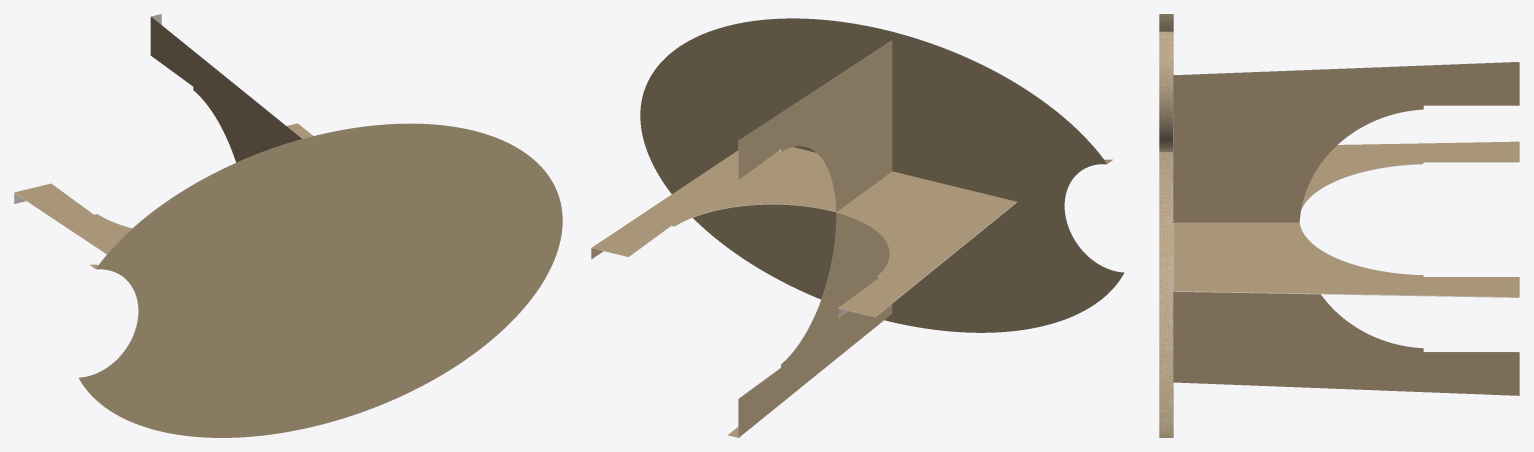
File: NODO_MESA_RATONA_ORGANICA_KIRI_V2.glb
3 views of the same model, side by side, from view 1: azimuth 30°, elevation 25°; view 2: azimuth 150°, elevation 25°; view 3: azimuth 270°, elevation 25° (orthographic). The views are drawn at different scales.
Visible parts, largest first — view 1: tapa_canto, pataB_canto, pataA_canto; view 2: tapa_canto, pataB_canto, pataA_canto, pataA_cuerpo, tapa_cuerpo; view 3: pataB_canto, pataA_canto, tapa_canto, tapa_cuerpo, pataA_cuerpo, pataB_cuerpo.
Boxes of the visible parts, bbox=[...] form: tapa_canto: bbox=[79, 123, 562, 437]; pataB_canto: bbox=[150, 14, 301, 162]; pataA_canto: bbox=[14, 123, 312, 253]; tapa_canto: bbox=[640, 18, 1123, 332]; pataB_canto: bbox=[728, 38, 892, 437]; pataA_canto: bbox=[591, 147, 1017, 319]; pataA_cuerpo: bbox=[592, 202, 1016, 318]; tapa_cuerpo: bbox=[699, 18, 1123, 299]; pataB_canto: bbox=[1173, 62, 1519, 395]; pataA_canto: bbox=[1173, 141, 1519, 297]; tapa_canto: bbox=[1159, 14, 1173, 437]; tapa_cuerpo: bbox=[1160, 15, 1172, 437]; pataA_cuerpo: bbox=[1173, 162, 1518, 297]; pataB_cuerpo: bbox=[1173, 62, 1518, 382].
Bounding box in the file's own units: 0.7852 × 0.46 × 0.45.
